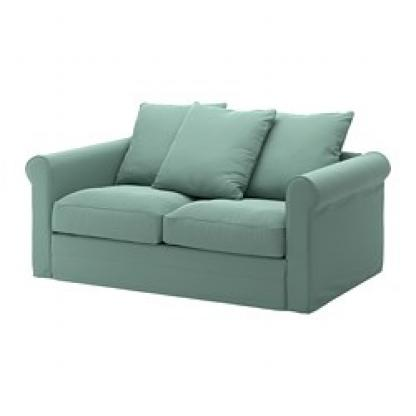Sofa: (20, 82, 396, 330)
